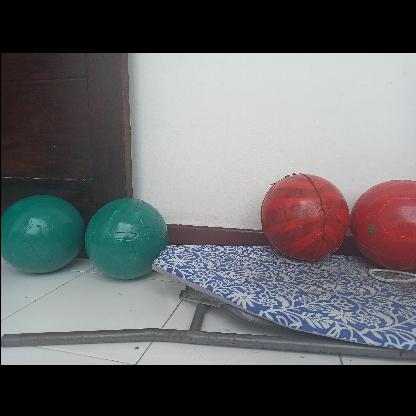red_ball: (262, 174, 346, 258), (351, 176, 415, 266)
